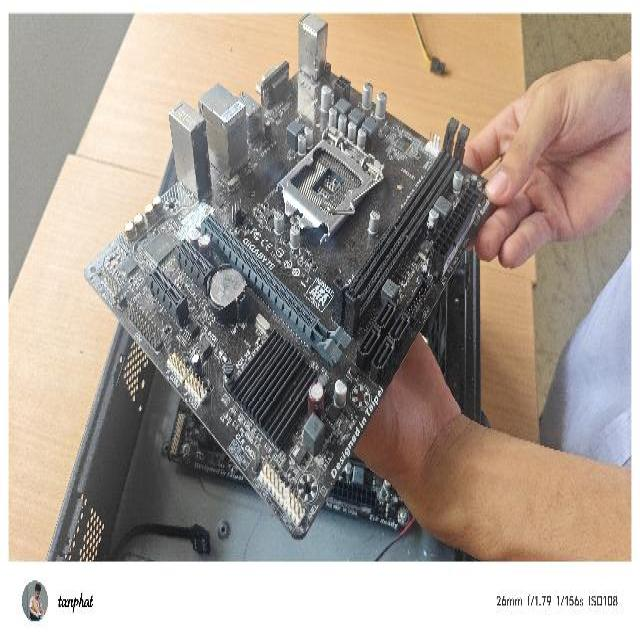Mainboard: (81, 13, 502, 541)
